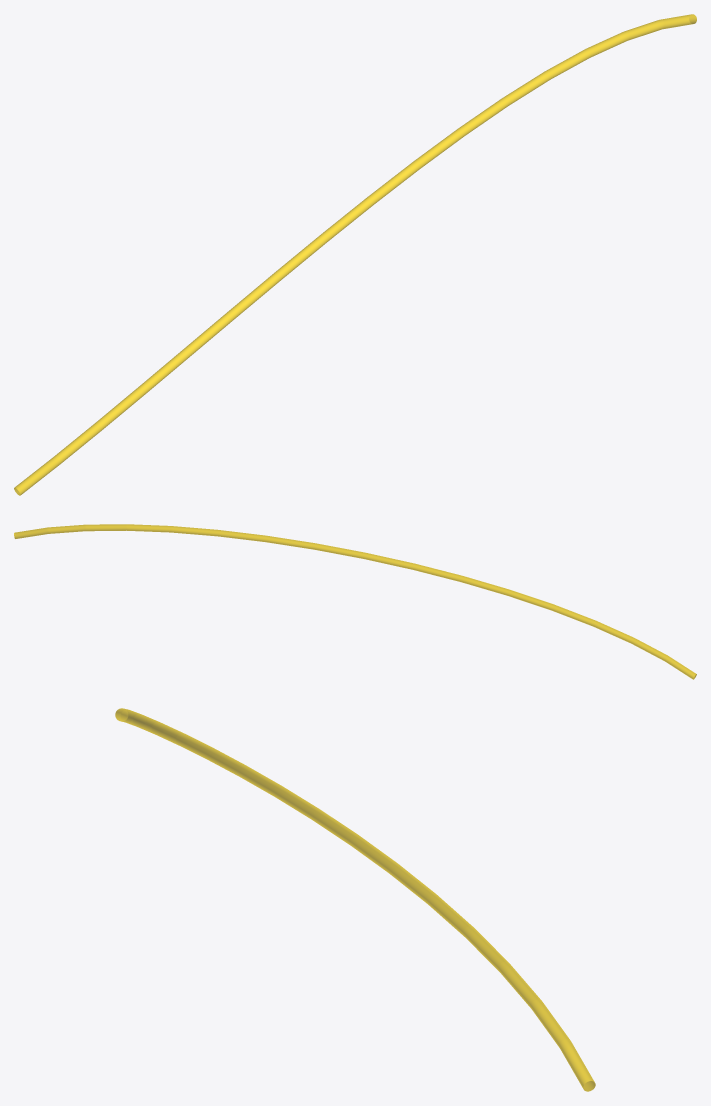
Rendered from Event_75125125_track_55.fbx.
3 views of the same model, one above another, from view 1: azimuth 30°, elevation 25°; view 2: azimuth 150°, elevation 25°; view 3: azimuth 270°, elevation 25° (orthographic). The views are drawn at different scales.
Parts seen in each view (by area): view 1: Model; view 2: Model; view 3: Model.
Boxes of the visible parts, x1,y1,x2,y2 form: Model: (14,14,696,495); Model: (14,524,696,679); Model: (115,708,595,1091).
Bounding box in the file's own units: 3.93 × 0.7333 × 1.45.
